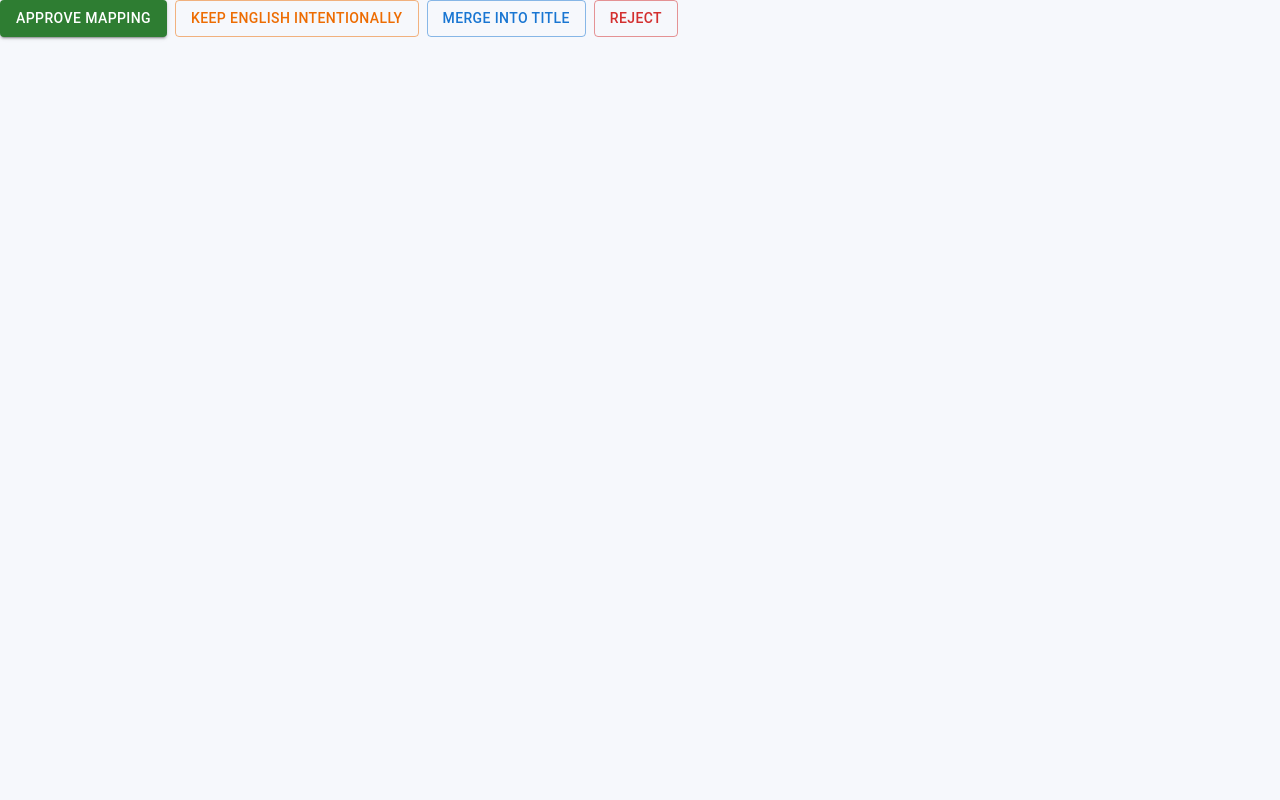
Test: search mapping review admin UI › exposes impact and collision warnings before a sensitive action
Click the button "Approve mapping". click: (84, 18)
box: [0, 0, 167, 36]
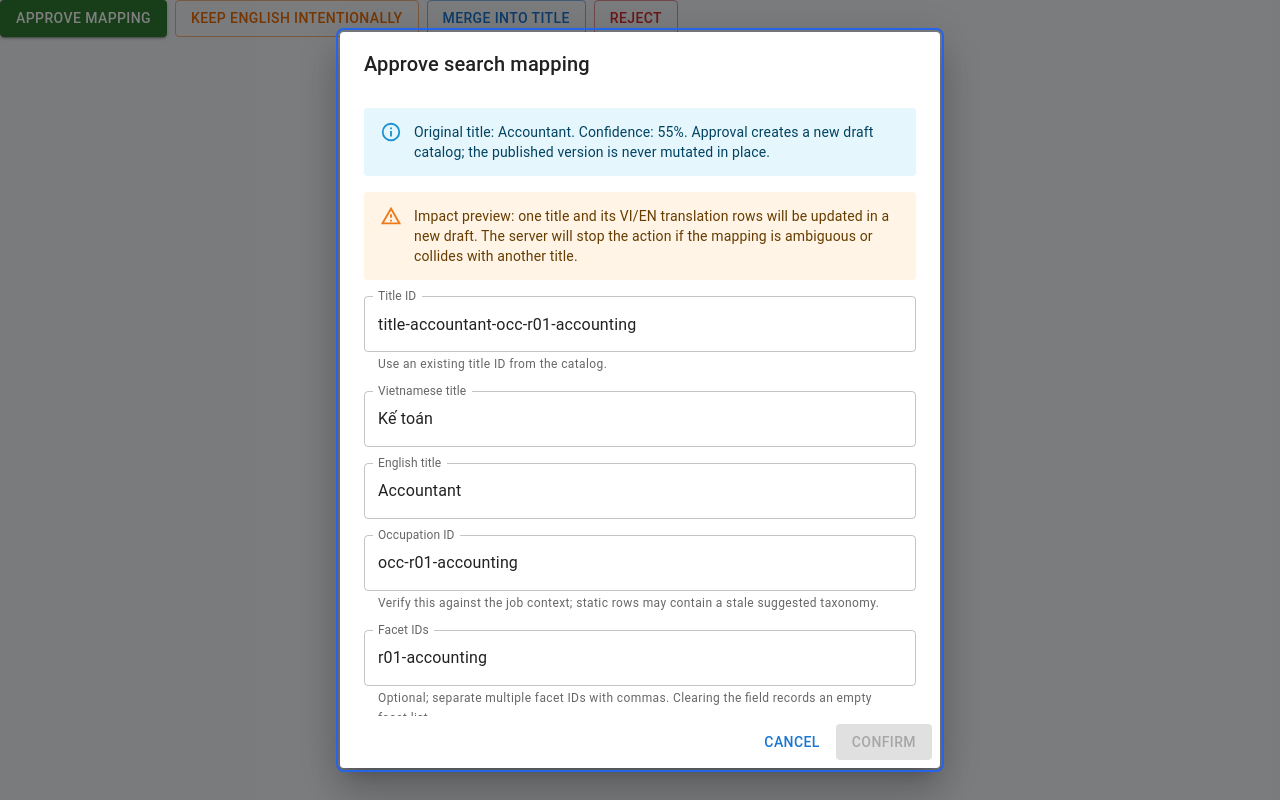
Result: the dialog is shown at [340, 32, 940, 768]
Result: the 2nd message shows "Impact preview" at [414, 208, 889, 264]
Result: the 2nd message shows "ambiguous" at [414, 208, 889, 264]
